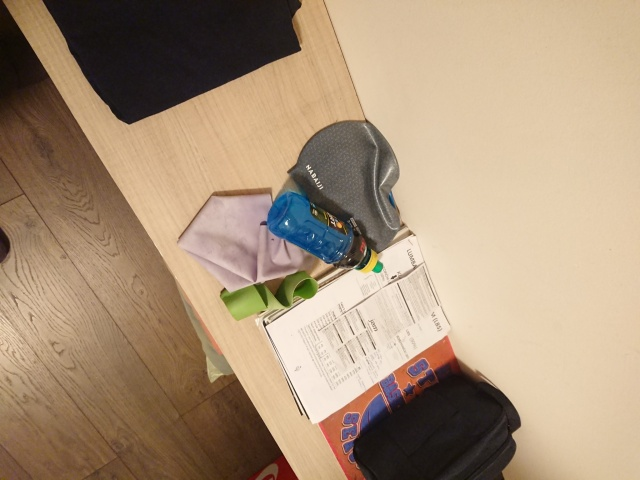Vindi Iso Sport Forest Strawberries 500mL: (265, 190, 384, 274)
